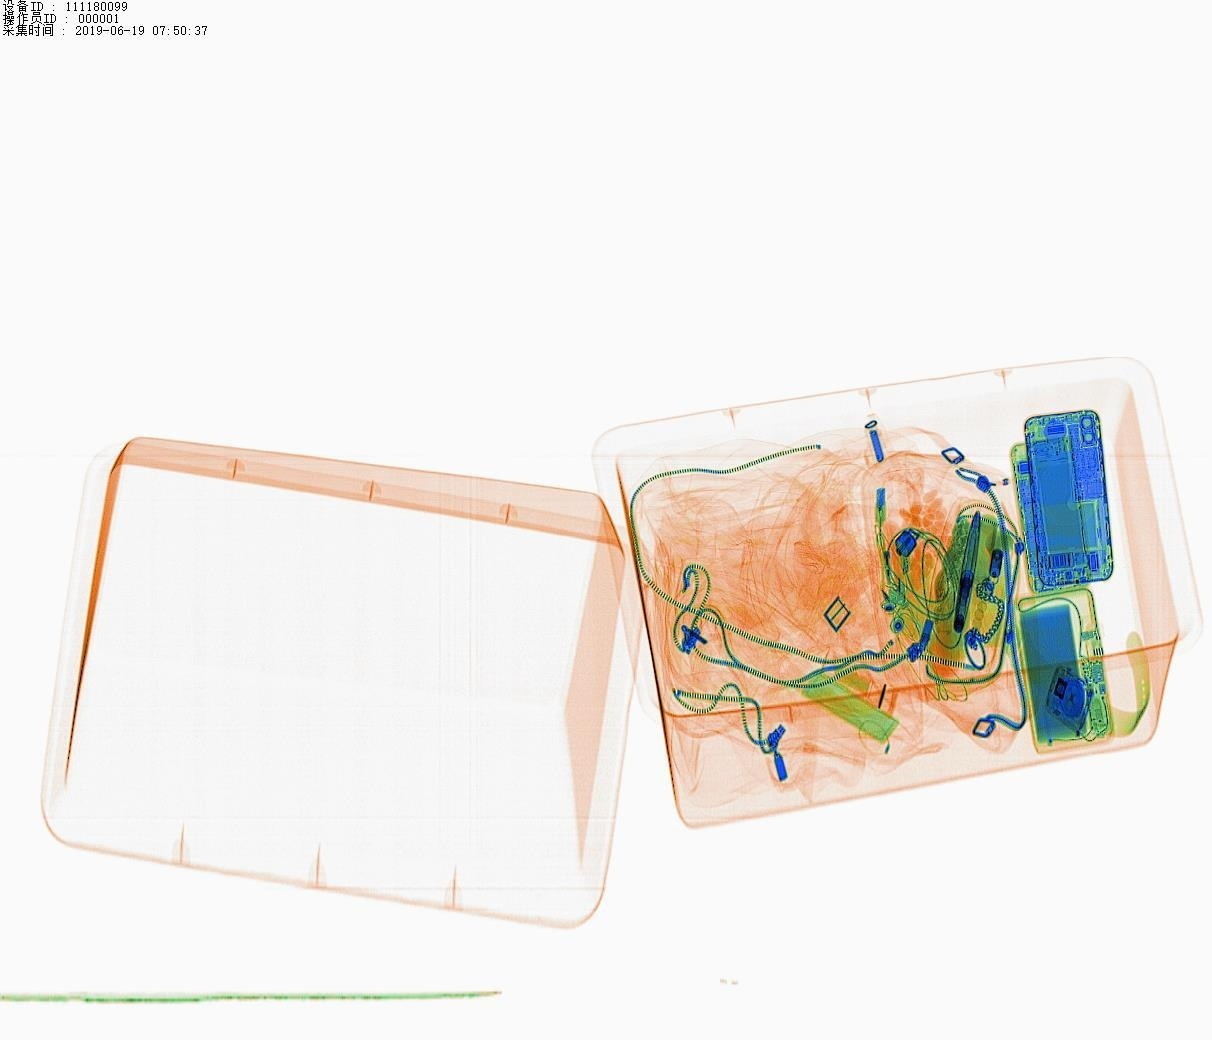NonmetallicFire: (877, 514, 917, 624)
